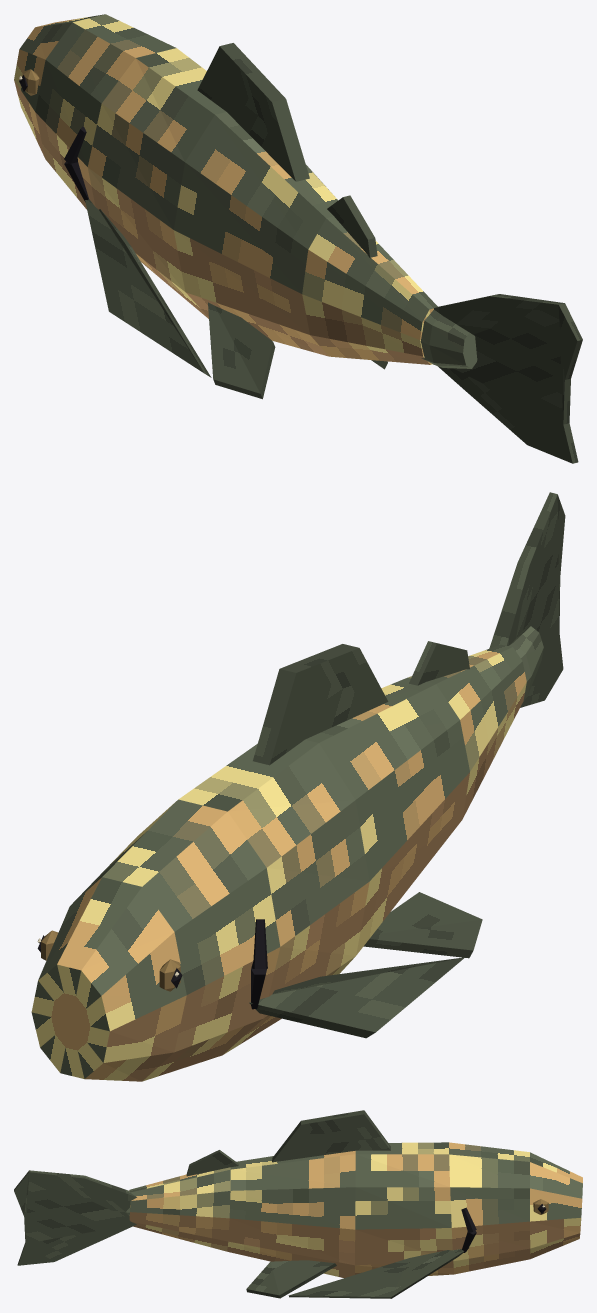
File: mon_fish_brook_trout.glb
3 renders of one model, top to bottom at view 1: azimuth 30°, elevation 25°; view 2: azimuth 150°, elevation 25°; view 3: azimuth 270°, elevation 25°, orthographic. The views are drawn at different scales.
Visible parts, largest first — view 1: closed_body; view 2: closed_body; view 3: closed_body.
Part boxes in pixels (x1=…): closed_body: x1=14, y1=14, x2=582, y2=463; closed_body: x1=31, y1=492, x2=565, y2=1081; closed_body: x1=14, y1=1110, x2=582, y2=1298.
Bounding box in the file's own units: 0.1253 × 0.1698 × 0.5374.
Materials: 1 (1 with a texture image).
